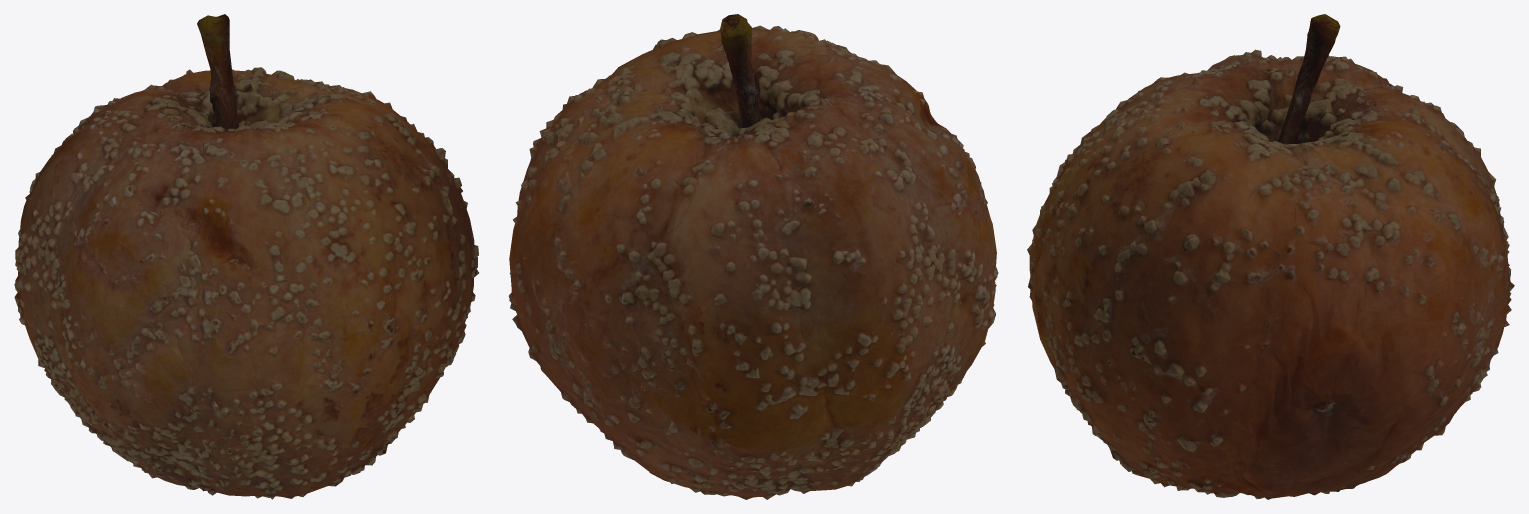
File: apple.glb
The picture shows the model from 3 angles, left to right: view 1: azimuth 30°, elevation 25°; view 2: azimuth 150°, elevation 25°; view 3: azimuth 270°, elevation 25°; orthographic projection. The views are drawn at different scales.
Parts seen in each view (by area): view 1: Object_2; view 2: Object_2; view 3: Object_2.
Boxes of the visible parts, bbox=[...] form: Object_2: bbox=[14, 14, 479, 499]; Object_2: bbox=[508, 14, 998, 499]; Object_2: bbox=[1027, 14, 1514, 499].
Size of the model in its own units: 2.39 by 2.5 by 2.43.
1 material, 1 textured.
